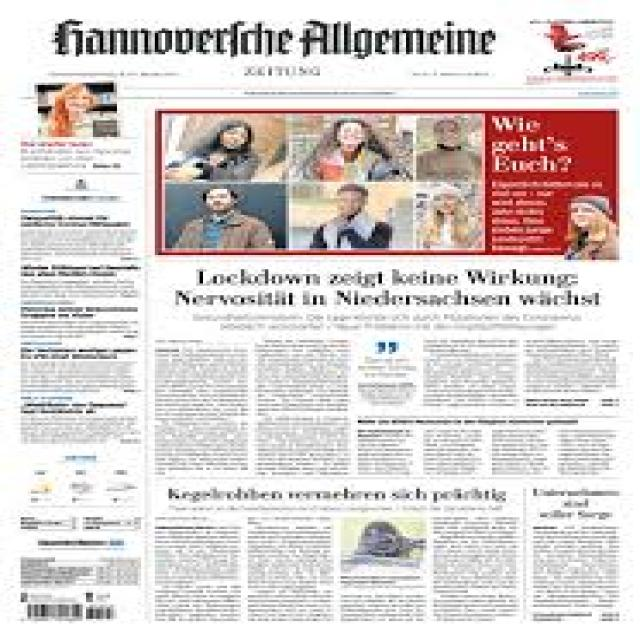paper: (22, 0, 614, 640)
